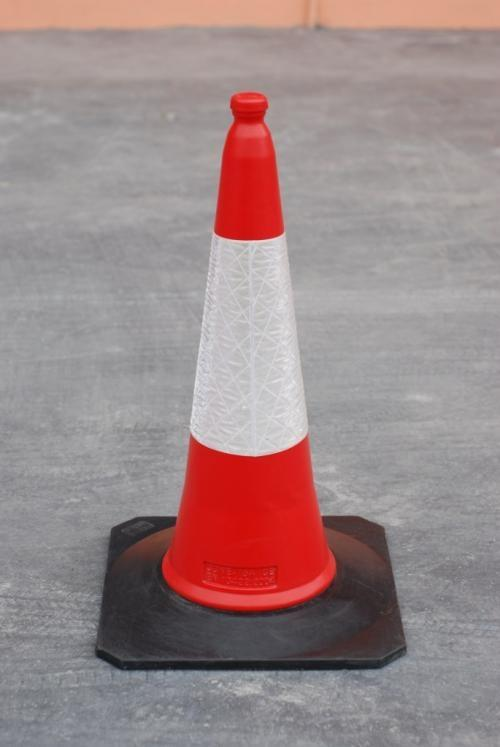cone_barrel: (141, 100, 340, 608)
